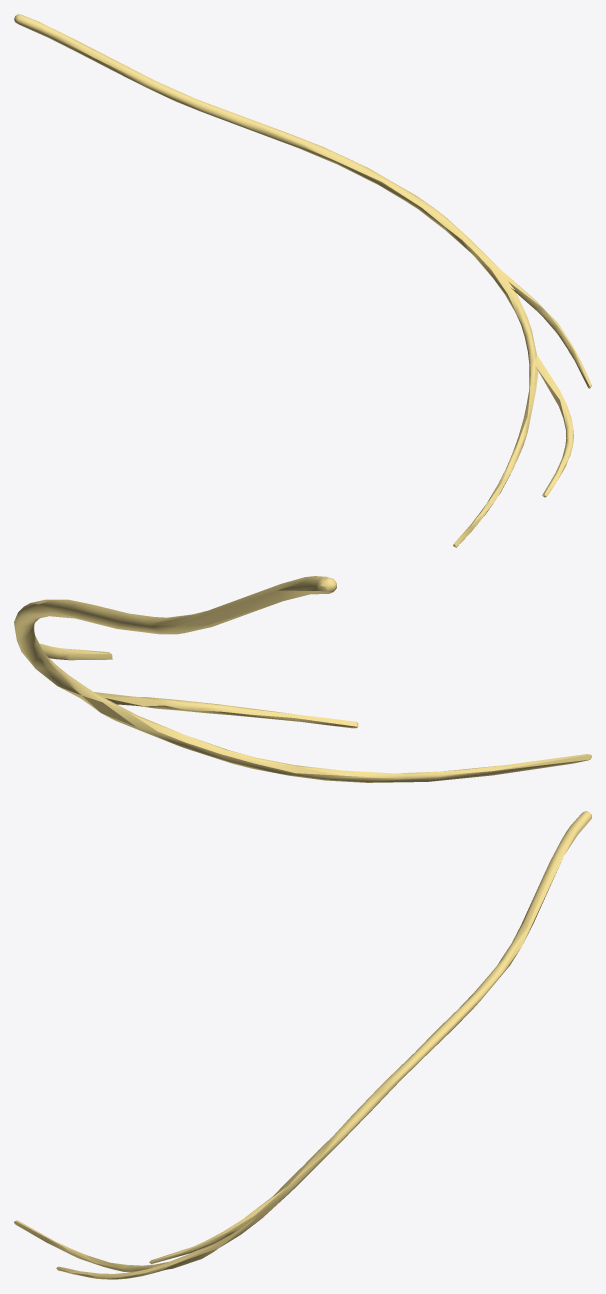
Rendered from fma52604_fj3969.glb.
3 views of the same model, one above another, from view 1: azimuth 30°, elevation 25°; view 2: azimuth 150°, elevation 25°; view 3: azimuth 270°, elevation 25° (orthographic). The views are drawn at different scales.
Visible parts, largest first — view 1: FMA52604_FJ3969; view 2: FMA52604_FJ3969; view 3: FMA52604_FJ3969.
Part boxes in pixels (x1=…): FMA52604_FJ3969: x1=14, y1=14, x2=591, y2=547; FMA52604_FJ3969: x1=14, y1=576, x2=591, y2=782; FMA52604_FJ3969: x1=14, y1=811, x2=591, y2=1279.
Size of the model in its own units: 0.0199 by 0.0188 by 0.0283.
